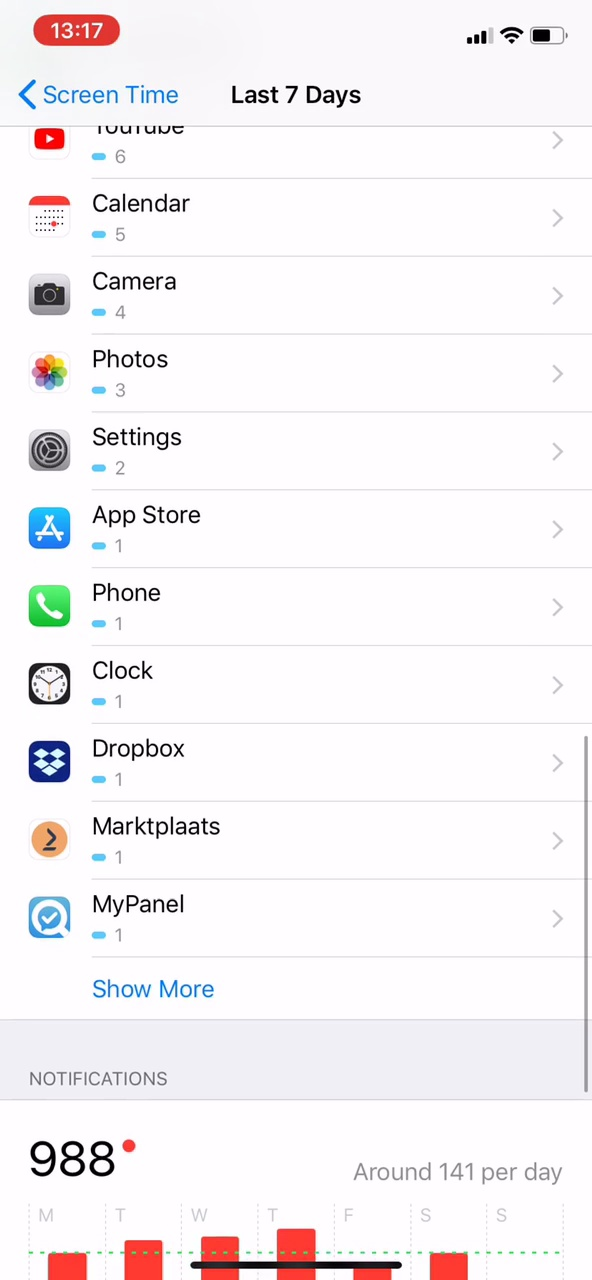not_over: (17, 1033, 198, 1194)
pick_app: (25, 728, 312, 802), (23, 569, 293, 646), (25, 808, 314, 878), (25, 650, 303, 722), (20, 877, 257, 957), (20, 416, 261, 492), (22, 497, 286, 566), (17, 183, 240, 263), (20, 339, 259, 413), (15, 264, 250, 333)
week: (217, 73, 372, 114)
